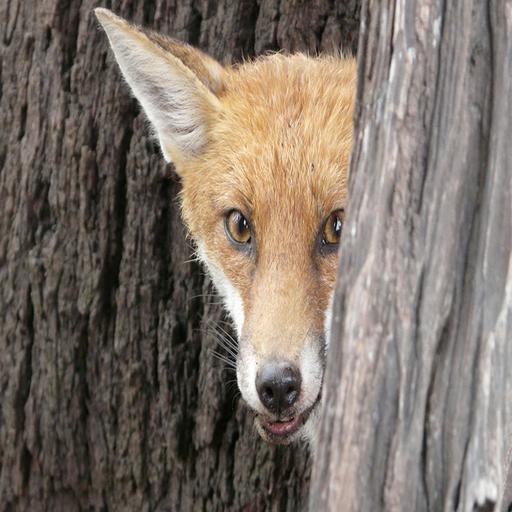Fox: (98, 1, 512, 476)
